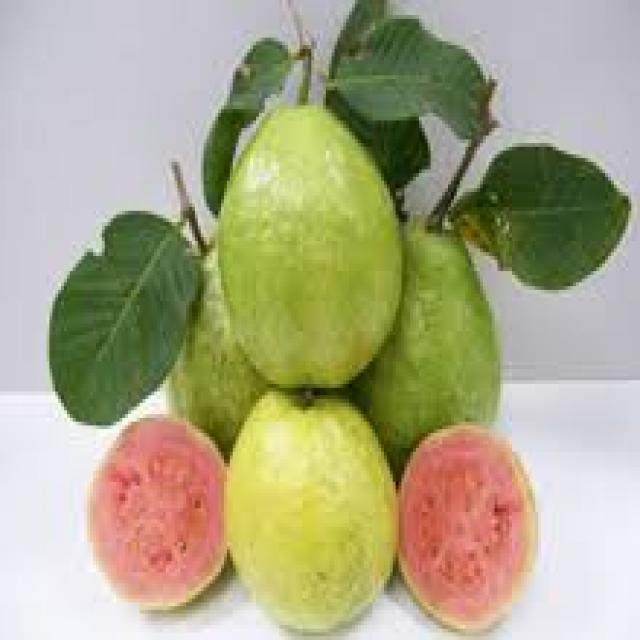organic waste: (216, 98, 402, 395), (224, 388, 396, 636), (367, 207, 498, 467), (44, 207, 200, 422), (393, 418, 535, 636), (84, 410, 227, 618), (448, 147, 628, 301), (172, 230, 270, 448), (338, 15, 498, 143), (183, 41, 291, 207)
